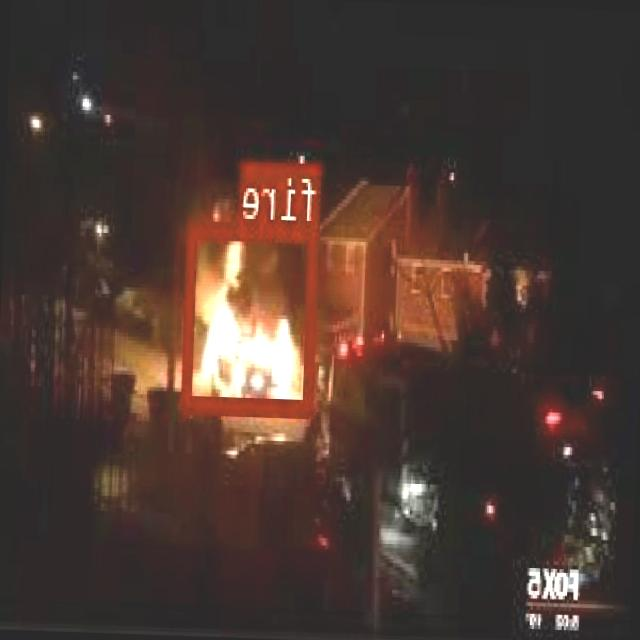fire: (182, 218, 320, 414)
